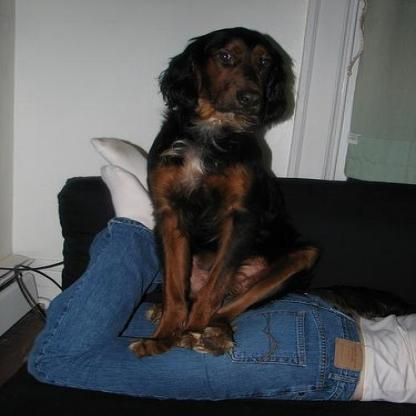Gordon_setter: (129, 25, 315, 355)
